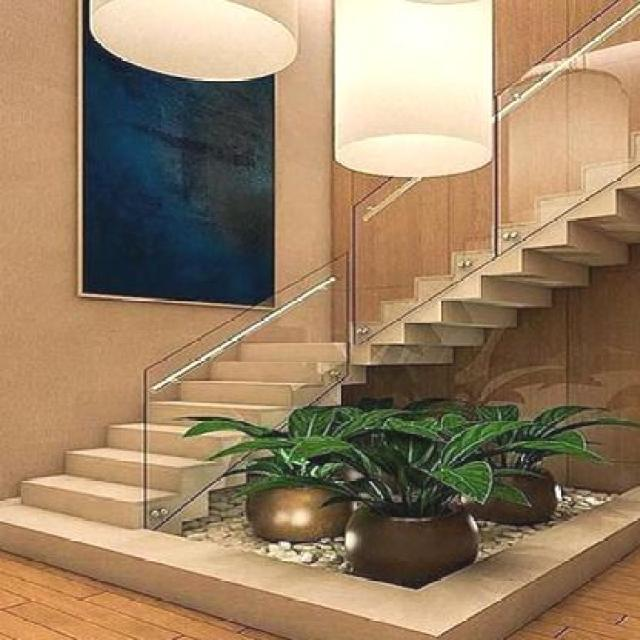stair: (9, 292, 360, 556), (315, 105, 639, 382)
